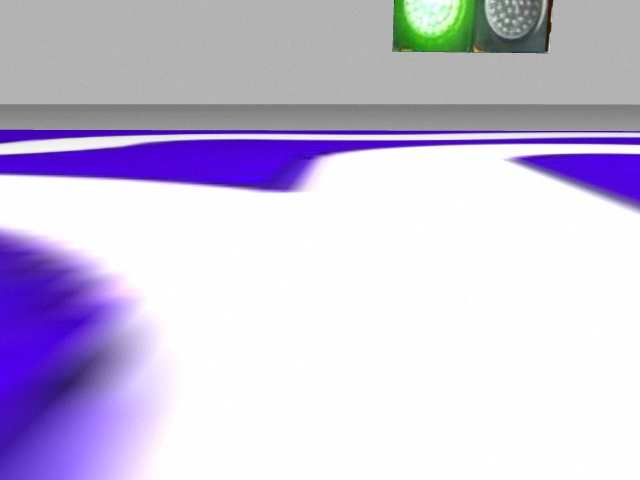green: (393, 1, 474, 53)
